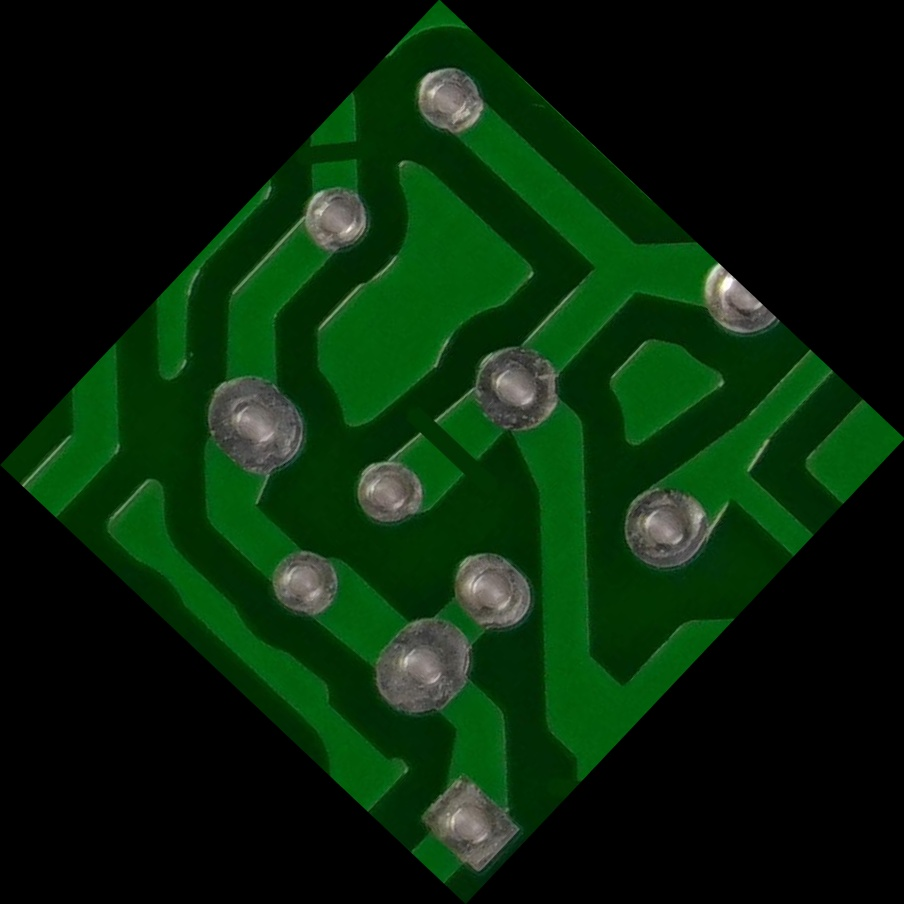open_circuit: (393, 394, 512, 511)
